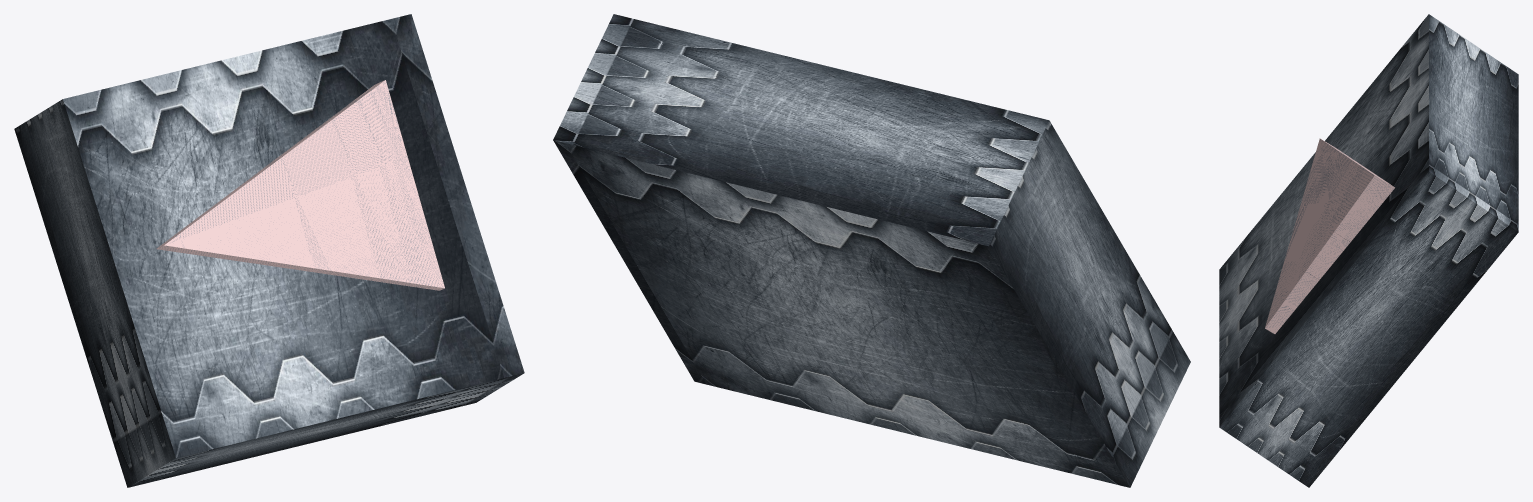
File: atras.gltf
The picture shows the model from 3 angles, left to right: view 1: azimuth 30°, elevation 25°; view 2: azimuth 150°, elevation 25°; view 3: azimuth 270°, elevation 25°; orthographic projection. The views are drawn at different scales.
Visible parts, largest first — view 1: Cube.002, instance_1.055; view 2: Cube.002; view 3: Cube.002, instance_1.055.
Boxes of the visible parts, x1,y1,x2,y2 form: Cube.002: [14, 14, 524, 487]; instance_1.055: [156, 80, 444, 290]; Cube.002: [553, 14, 1190, 487]; Cube.002: [1219, 14, 1518, 487]; instance_1.055: [1265, 138, 1394, 333].
Bounding box in the file's own units: 0.3288 × 0.3077 × 0.2641.
3 materials, 1 textured.
